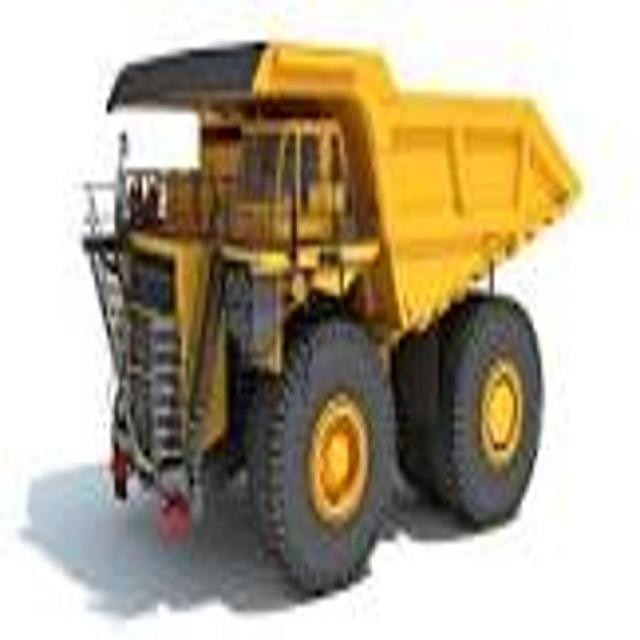dump_truck: (82, 46, 577, 582)
